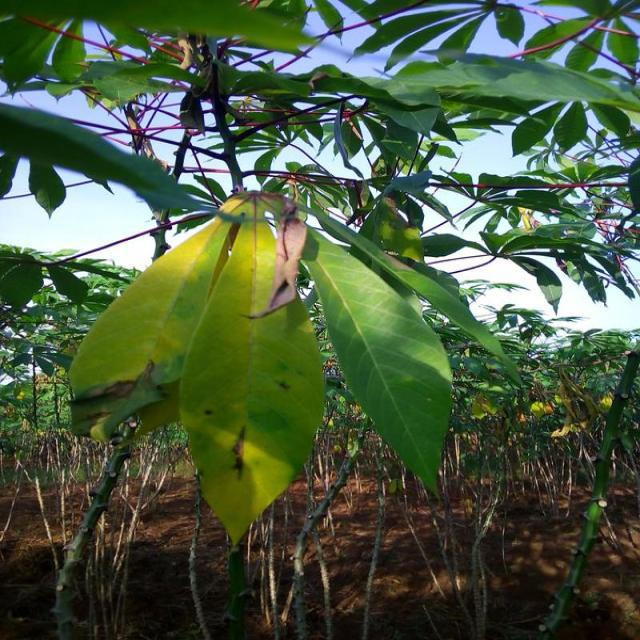cassava leaf: (68, 188, 454, 546), (178, 193, 326, 547), (300, 219, 454, 499)
